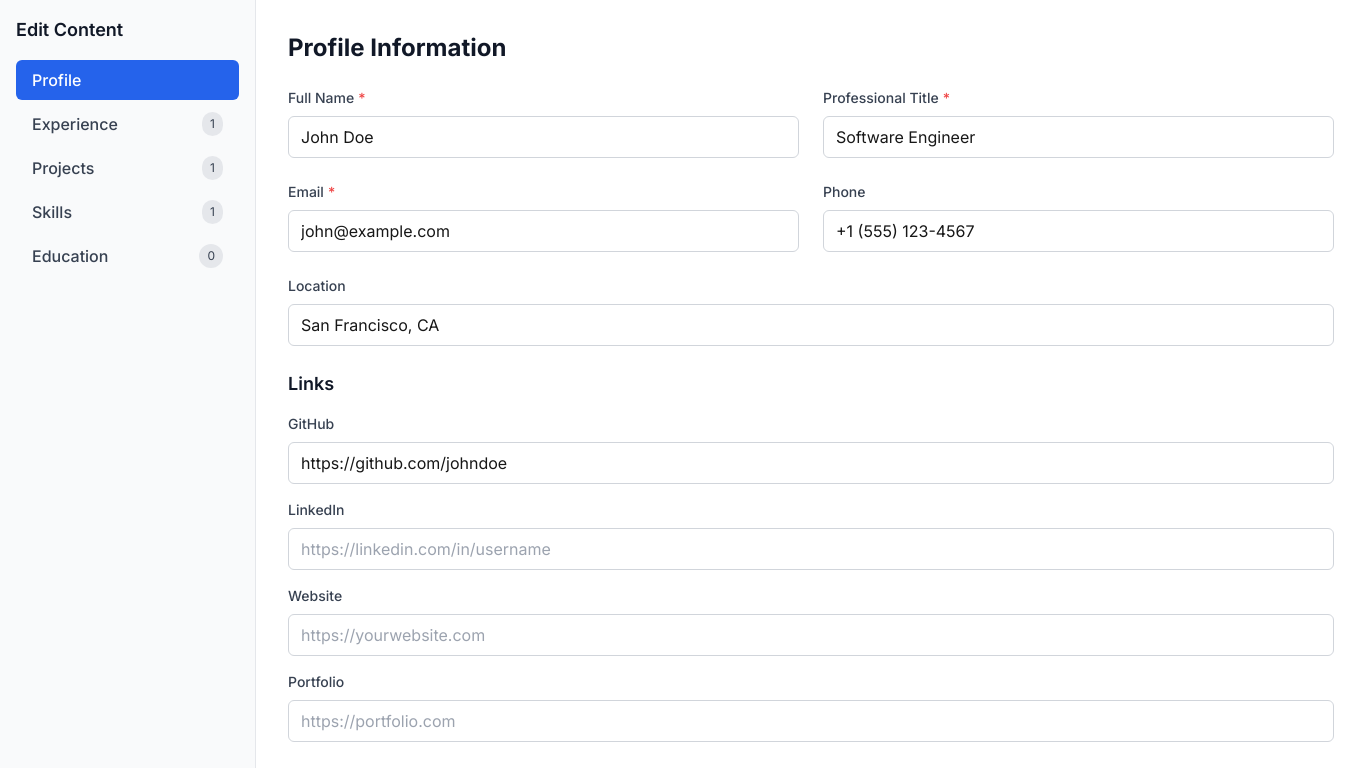
Scenario: ContentEditor › switches between sections
The image size is (1366, 768).
Expected: the heading "Profile Information" is shown, [288,33,506,62]
// Switch to experience
Click the text "Experience": (75,124) [32,112,118,136]
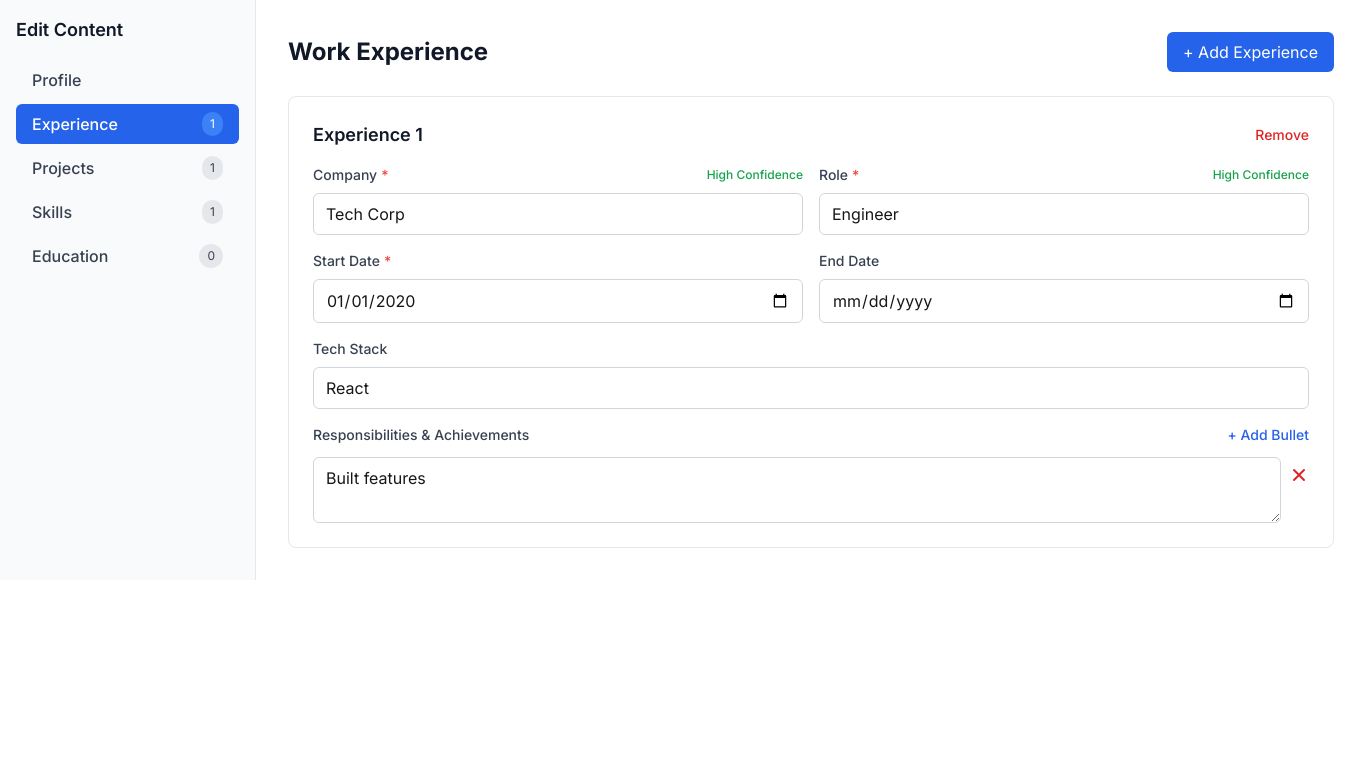
Now the heading "Work Experience" is shown, box [288,36,488,68]
